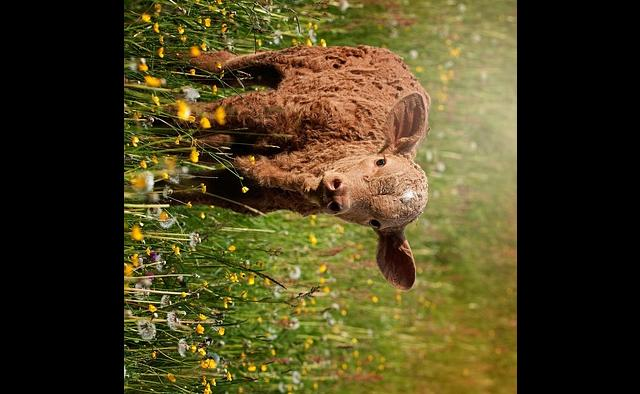Non_Gorille: (126, 11, 517, 309)
